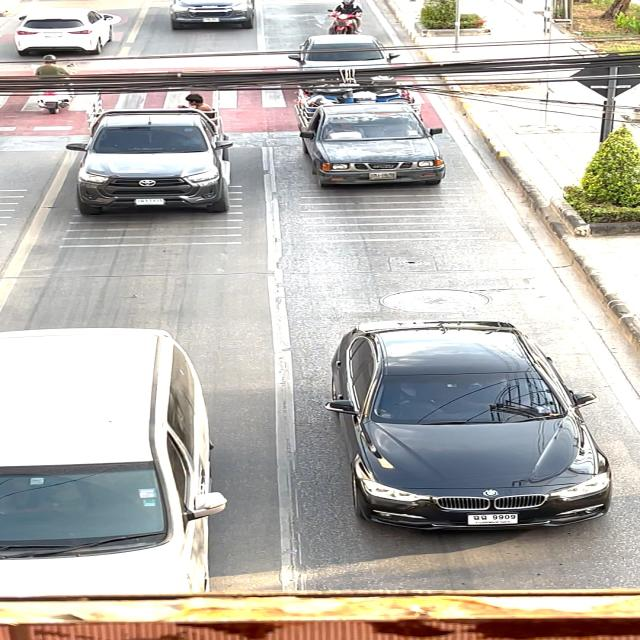car: (309, 310, 626, 537), (0, 322, 235, 600), (64, 103, 236, 220), (291, 99, 464, 194), (293, 30, 411, 94), (148, 0, 264, 38)
